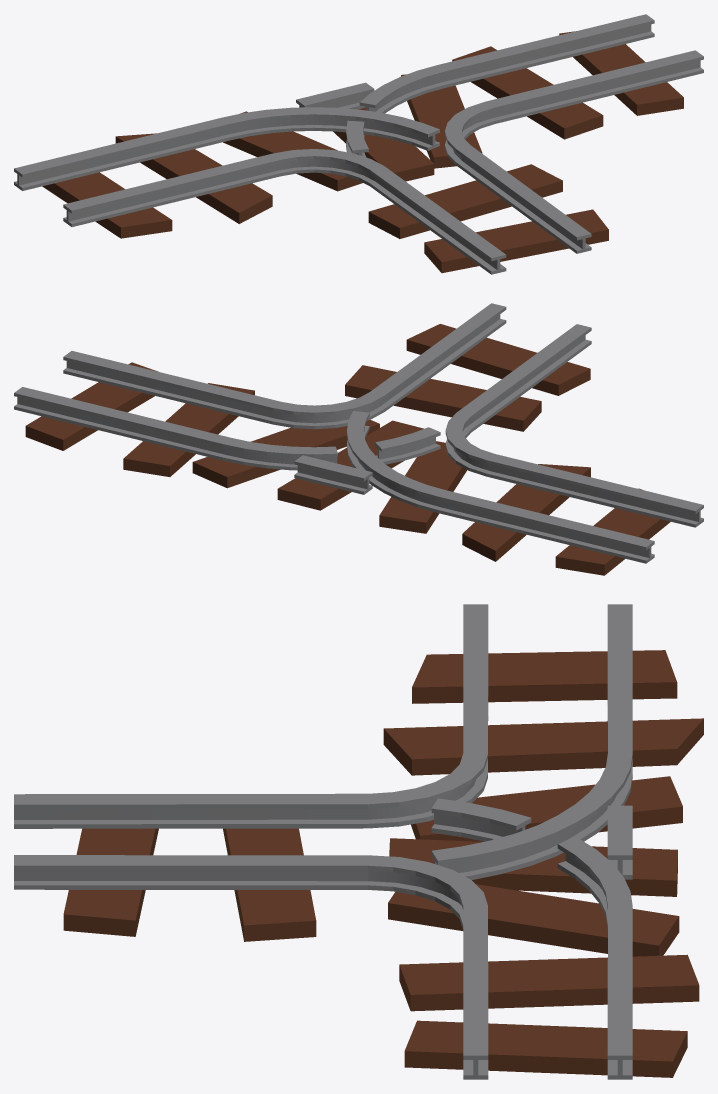
The model's file is rail_t_1.fbx.
The picture shows the model from 3 angles, top to bottom: view 1: azimuth 30°, elevation 25°; view 2: azimuth 150°, elevation 25°; view 3: azimuth 270°, elevation 25°; orthographic projection. The views are drawn at different scales.
Parts seen in each view (by area): view 1: rail070, planks013; view 2: rail070, planks013; view 3: planks013, rail070.
Boxes of the visible parts, bbox=[...] form: rail070: bbox=[14, 14, 703, 274]; planks013: bbox=[42, 31, 683, 273]; rail070: bbox=[14, 303, 703, 563]; planks013: bbox=[25, 324, 670, 575]; planks013: bbox=[63, 650, 703, 1077]; rail070: bbox=[14, 604, 632, 1079].
Bounding box in the file's own units: 117 × 4.88 × 75.35.
